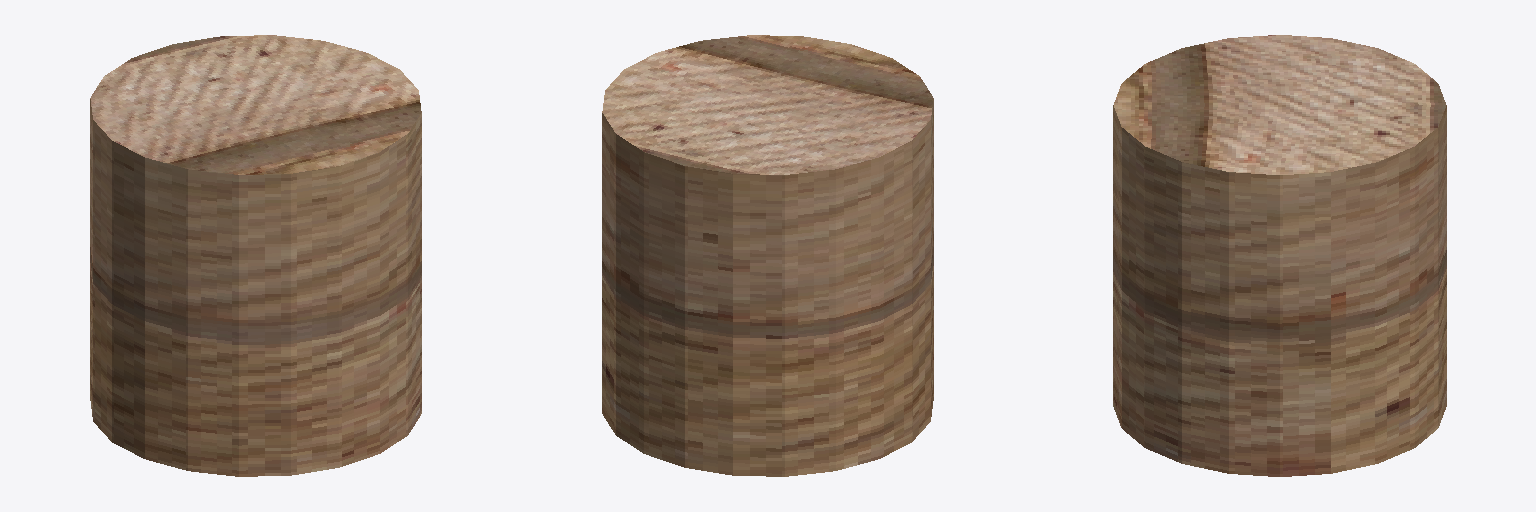
The picture shows the model from 3 angles: view 1: azimuth 30°, elevation 25°; view 2: azimuth 150°, elevation 25°; view 3: azimuth 270°, elevation 25°; orthographic projection.
Visible parts, largest first — view 1: pCylinder1; view 2: pCylinder1; view 3: pCylinder1.
Boxes of the visible parts, <box> form: pCylinder1: <box>90,35,421,476</box>; pCylinder1: <box>602,35,933,476</box>; pCylinder1: <box>1113,35,1446,476</box>.
Bounding box in the file's own units: 2 × 2 × 2.
Materials: 1 (1 with a texture image).